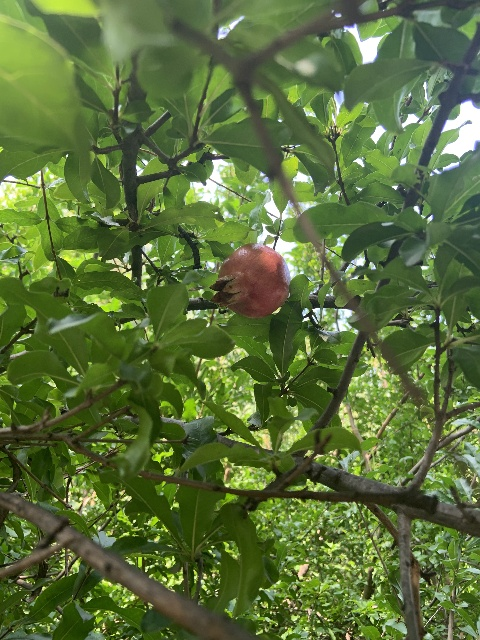ripe: (209, 242, 290, 319)
